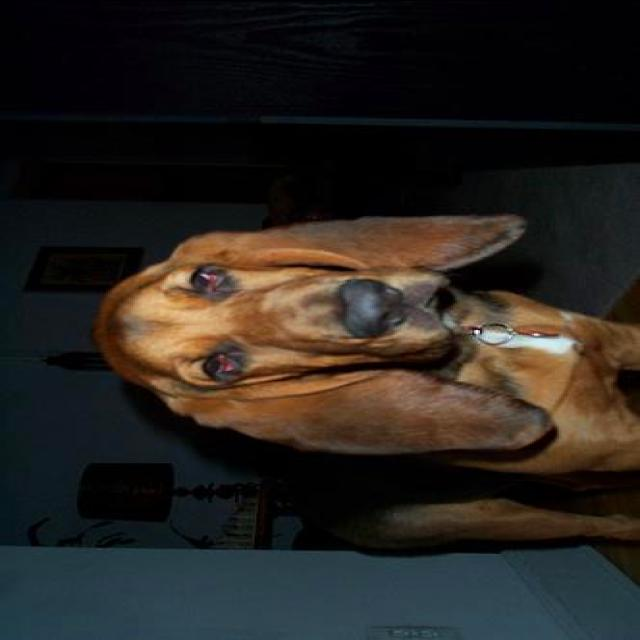bloodhound: (92, 212, 638, 560)
